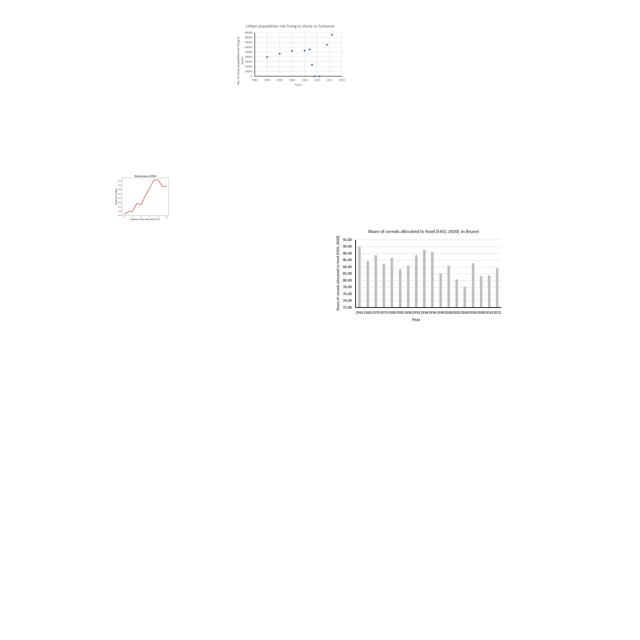Graph: (333, 226, 505, 324), (233, 22, 346, 87), (112, 172, 177, 221)
